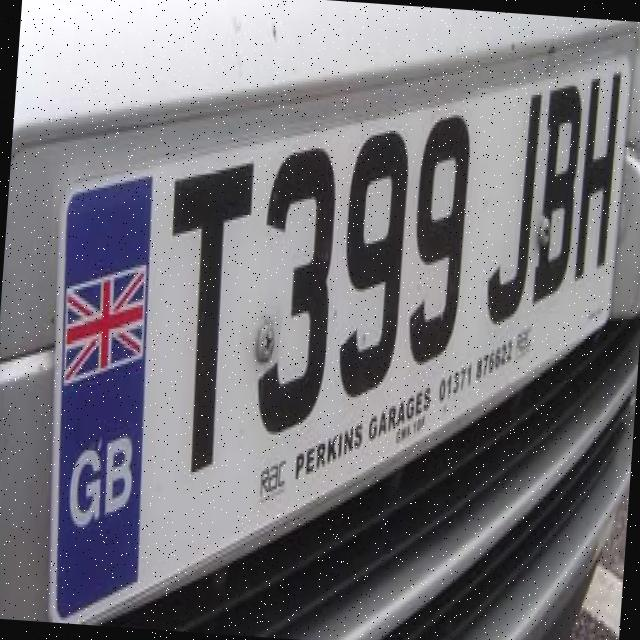Autre: (55, 50, 632, 619)
